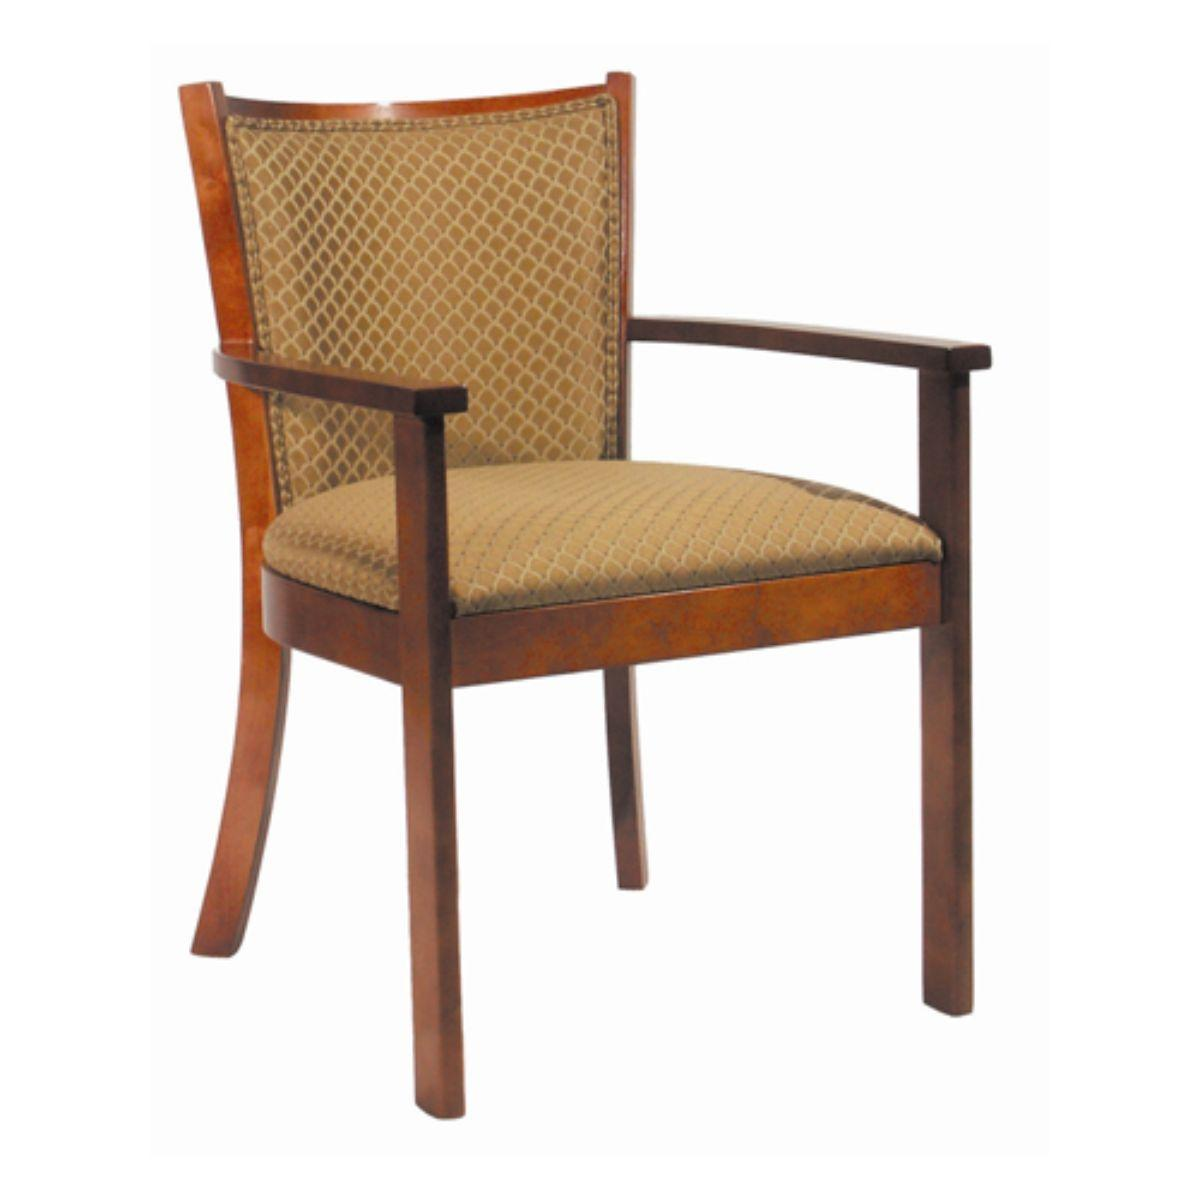Chair: (174, 65, 995, 1116)
